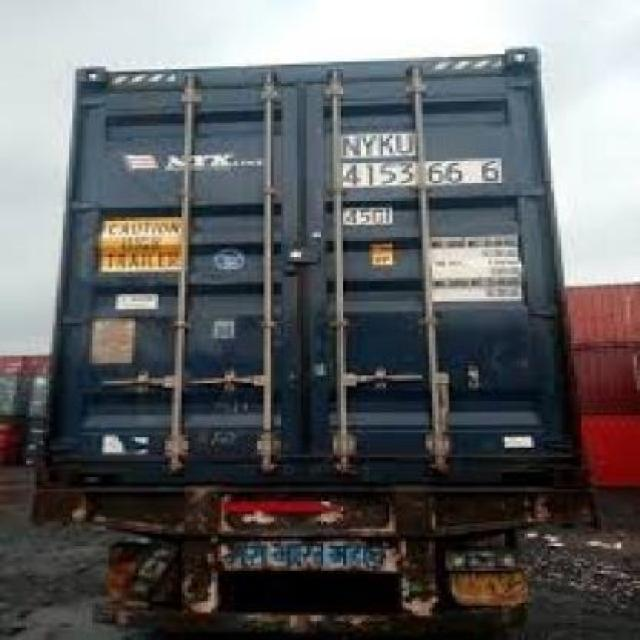ISO: (344, 206, 408, 228)
container_number: (346, 128, 502, 192)
